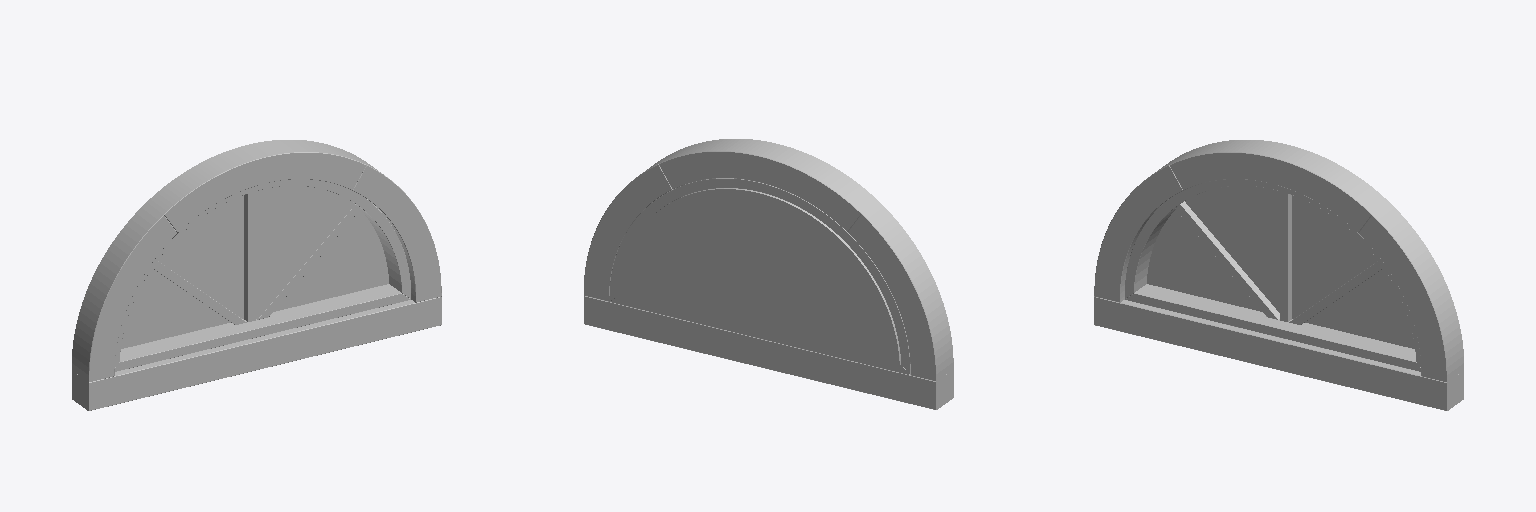
The picture shows the model from 3 angles: view 1: azimuth 30°, elevation 25°; view 2: azimuth 150°, elevation 25°; view 3: azimuth 330°, elevation 25°; orthographic projection.
Parts seen in each view (by area): view 1: glass, trim_bottom, trim_top, trim_left, window_bottom, trim_right, window, muttin003, muttin002, muttin001; view 2: glass, trim_bottom, trim_top, trim_left, window, trim_right, window_bottom; view 3: glass, trim_bottom, trim_top, trim_right, window_bottom, trim_left, window, muttin001, muttin002, muttin003.
Part boxes in pixels (x1,y1,x2,y2): glass: (121, 186, 388, 348); trim_bottom: (72, 297, 441, 410); trim_top: (147, 140, 365, 232); trim_left: (72, 202, 177, 382); window_bottom: (115, 284, 410, 371); trim_right: (351, 153, 441, 302); window: (115, 179, 410, 366); muttin003: (256, 201, 359, 319); muttin002: (244, 191, 255, 321); muttin001: (153, 261, 246, 324); glass: (617, 188, 900, 364); trim_bottom: (584, 296, 953, 409); trim_top: (659, 139, 877, 231); trim_left: (848, 201, 953, 381); window: (609, 178, 910, 374); trim_right: (584, 153, 672, 301); window_bottom: (610, 297, 909, 374); glass: (1147, 186, 1414, 348); trim_bottom: (1094, 297, 1463, 410); trim_top: (1170, 140, 1388, 232); trim_right: (1358, 202, 1463, 382); window_bottom: (1125, 284, 1420, 371); trim_left: (1094, 153, 1184, 302); window: (1125, 179, 1420, 366); muttin001: (1175, 201, 1279, 319); muttin002: (1280, 191, 1291, 321); muttin003: (1289, 261, 1382, 324).
Bounding box in the file's own units: 35 × 20 × 3.23.